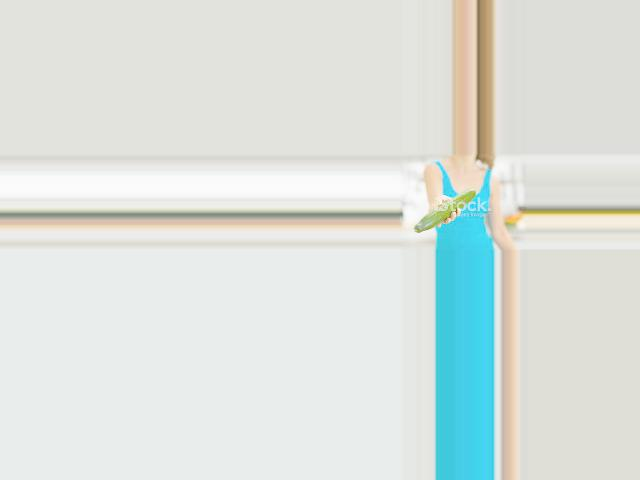cucumber: (414, 189, 476, 233)
